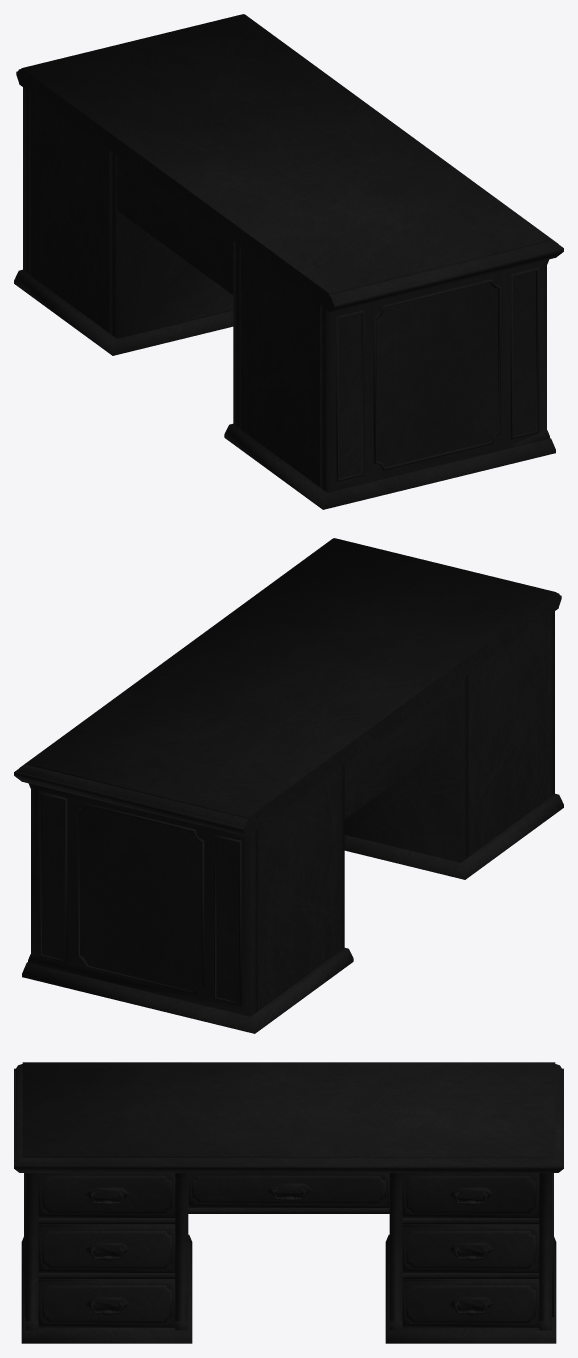
The model's file is Black Desk.fbx.
3 views of the same model, one above another, from view 1: azimuth 30°, elevation 25°; view 2: azimuth 150°, elevation 25°; view 3: azimuth 270°, elevation 25° (orthographic). The views are drawn at different scales.
Visible parts, largest first — view 1: plane_lp.001; view 2: plane_lp.001; view 3: plane_lp.001.
Part boxes in pixels (x1,y1,x2,y2): plane_lp.001: [14, 14, 563, 509]; plane_lp.001: [14, 538, 563, 1033]; plane_lp.001: [14, 1062, 563, 1343].
Bounding box in the file's own units: 92 × 79.66 × 214.
